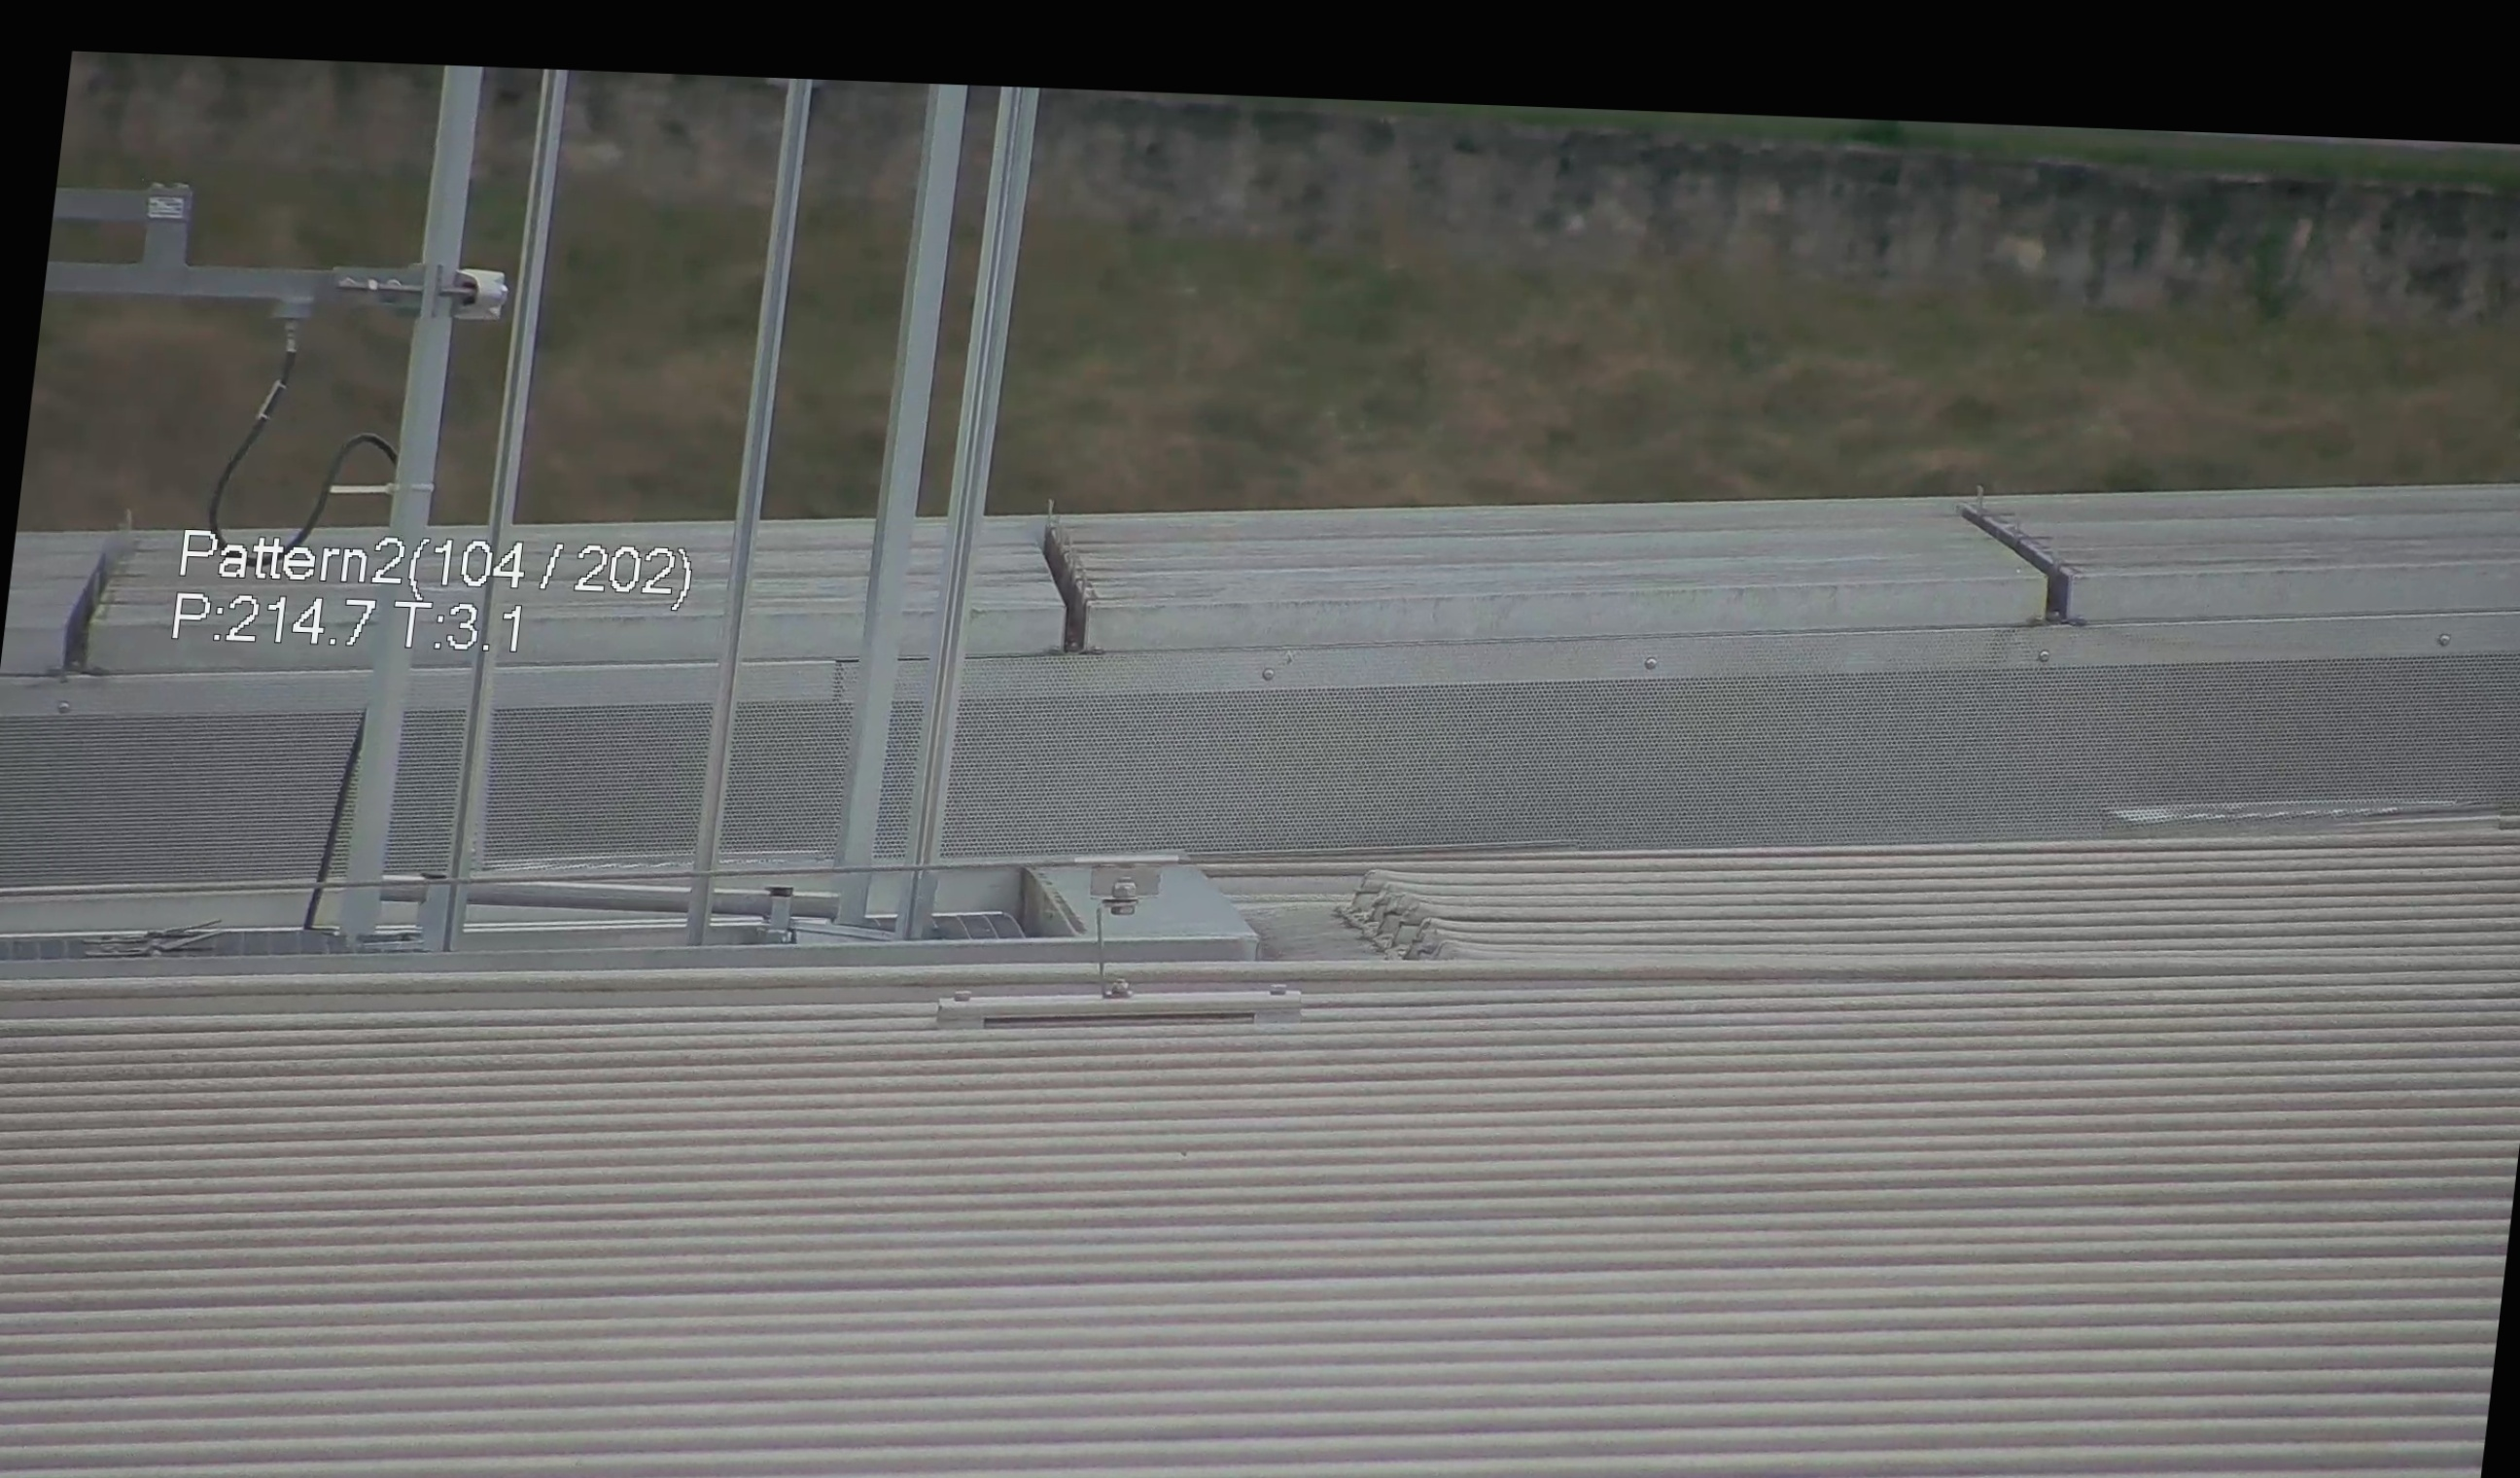Other: (1006, 486, 1120, 656)
